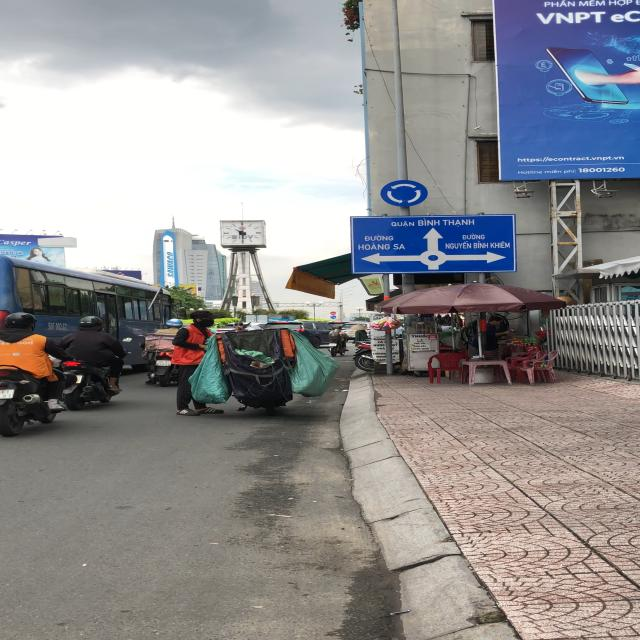Bien bao noi giao nhau chay theo vong xuyen: (378, 177, 432, 208)
